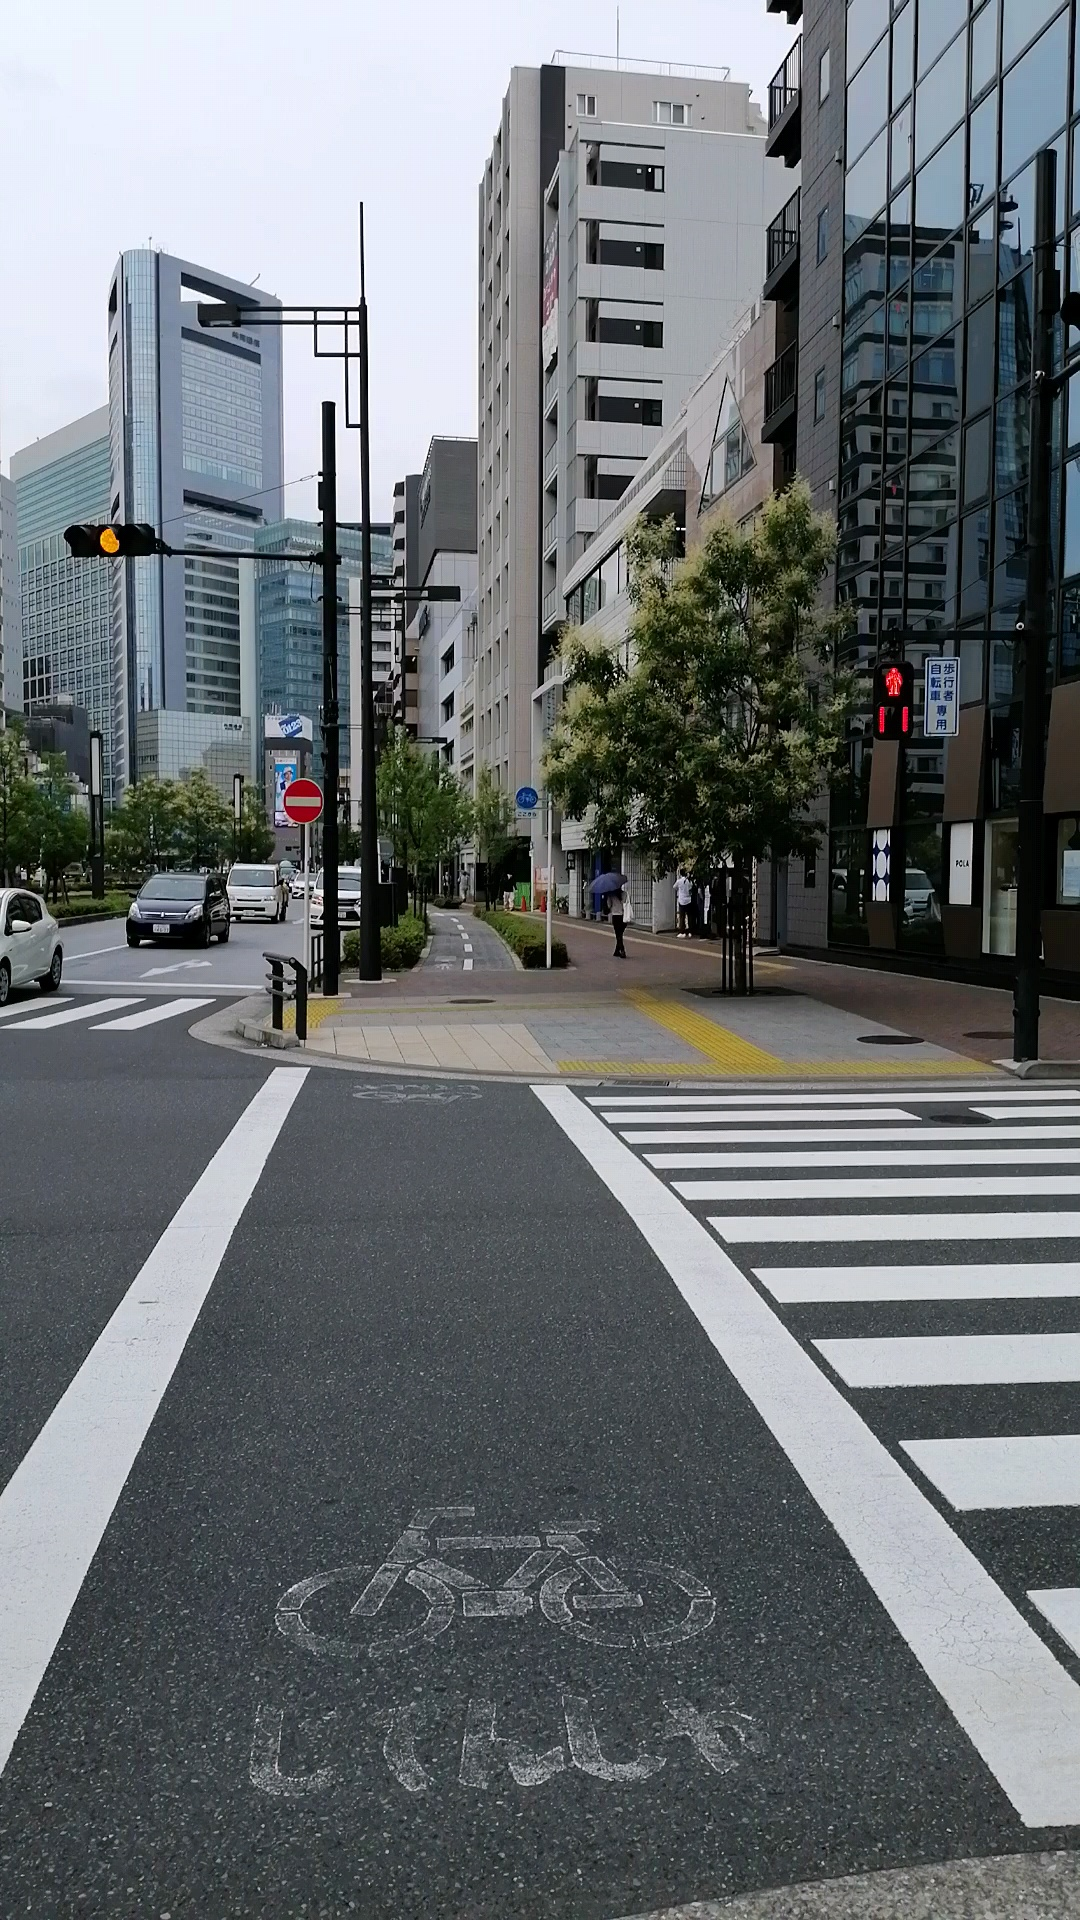red: (868, 659, 916, 741)
